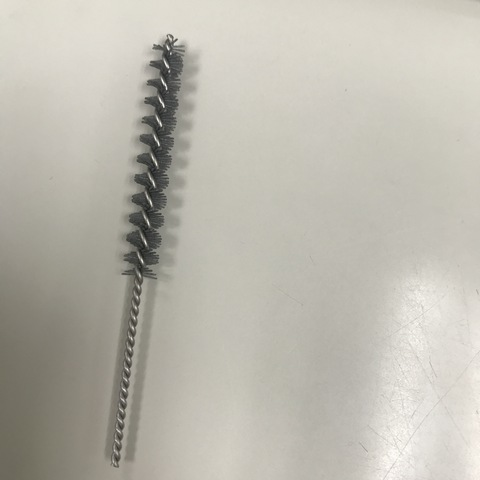Twist Brush-A: (97, 37, 201, 474)
